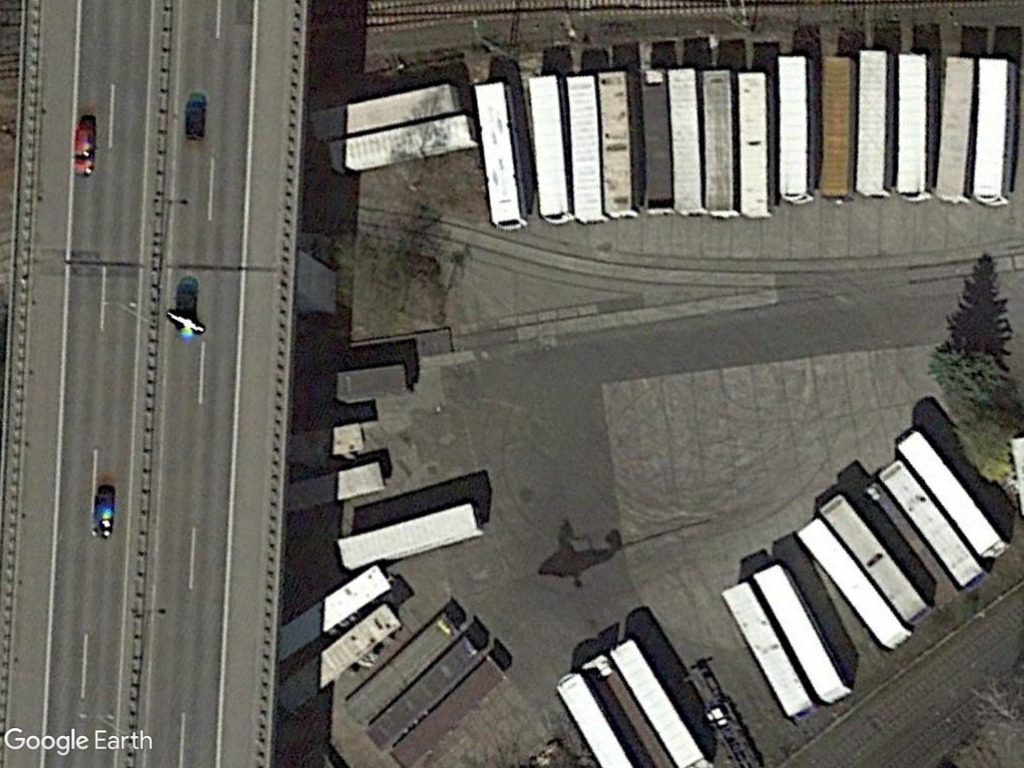longvehicle: (892, 423, 1014, 564), (814, 486, 935, 627), (789, 519, 915, 651), (750, 558, 857, 707), (871, 456, 988, 589), (716, 576, 816, 721), (599, 636, 708, 768), (333, 500, 484, 574), (325, 109, 474, 182), (468, 75, 535, 232), (309, 78, 460, 142), (521, 67, 578, 224), (660, 61, 711, 219), (561, 67, 611, 227), (596, 63, 645, 222), (770, 48, 819, 205), (851, 42, 899, 202), (695, 62, 741, 219), (970, 52, 1015, 212), (931, 49, 977, 205), (733, 62, 777, 222), (891, 46, 936, 202)
